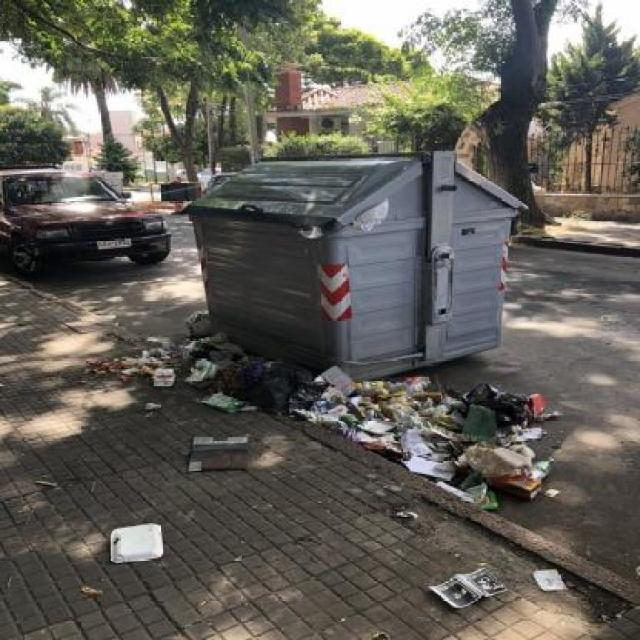garbage: (74, 334, 540, 522), (419, 537, 606, 621), (63, 515, 218, 568), (174, 296, 212, 352)
